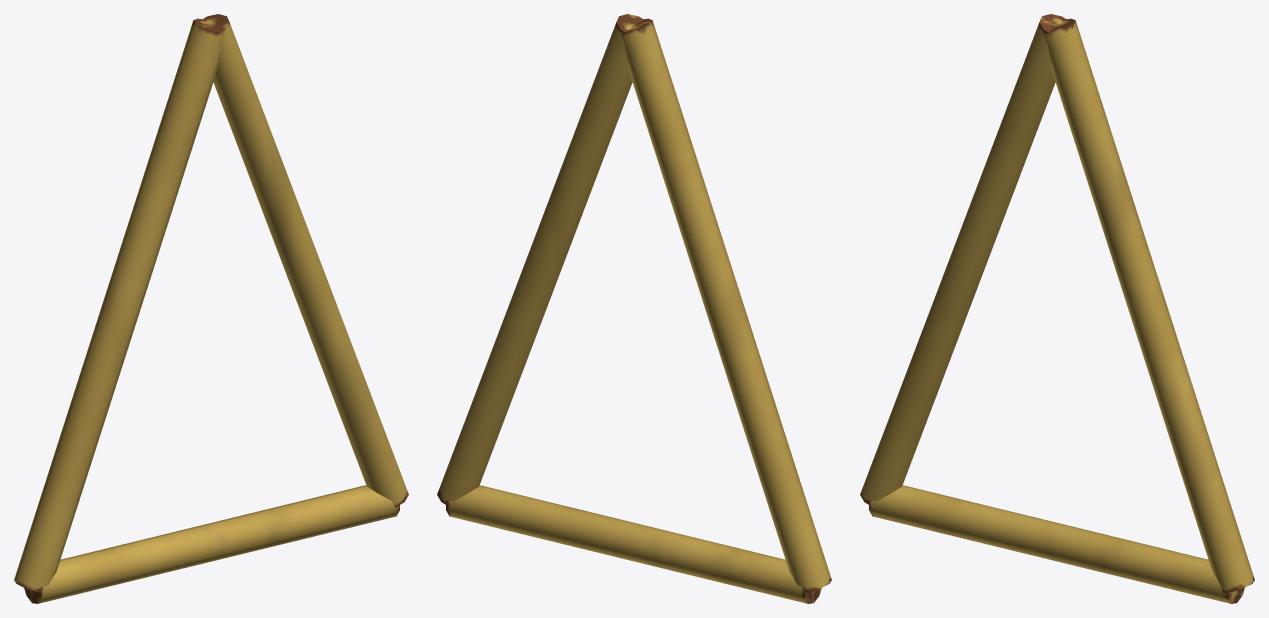
File: jib_end_frame.glb
3 views of the same model, side by side, from view 1: azimuth 30°, elevation 25°; view 2: azimuth 150°, elevation 25°; view 3: azimuth 330°, elevation 25° (orthographic).
Parts seen in each view (by area): view 1: jib_end_frame; view 2: jib_end_frame; view 3: jib_end_frame.
Part boxes in pixels (x1,y1,x2,y2): jib_end_frame: (14,14,408,603); jib_end_frame: (437,14,831,603); jib_end_frame: (860,14,1254,603).
Size of the model in its own units: 1.3 by 1.72 by 0.1046.
Materials: 1 (1 with a texture image).
